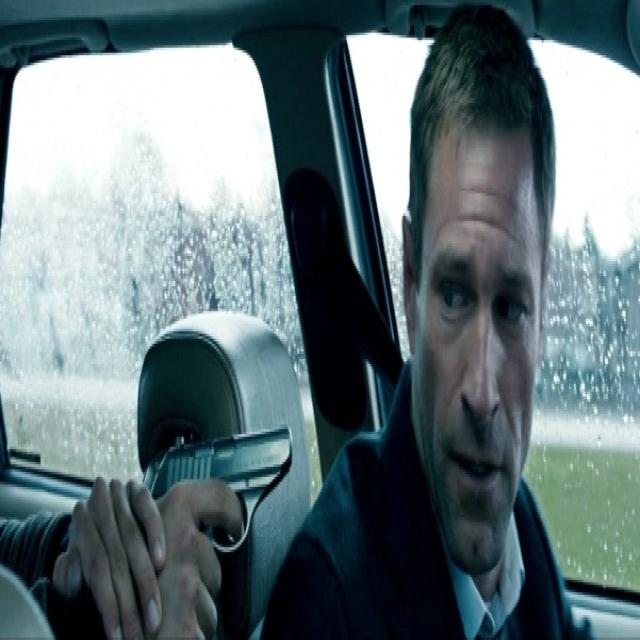weapons: (120, 402, 308, 630)
